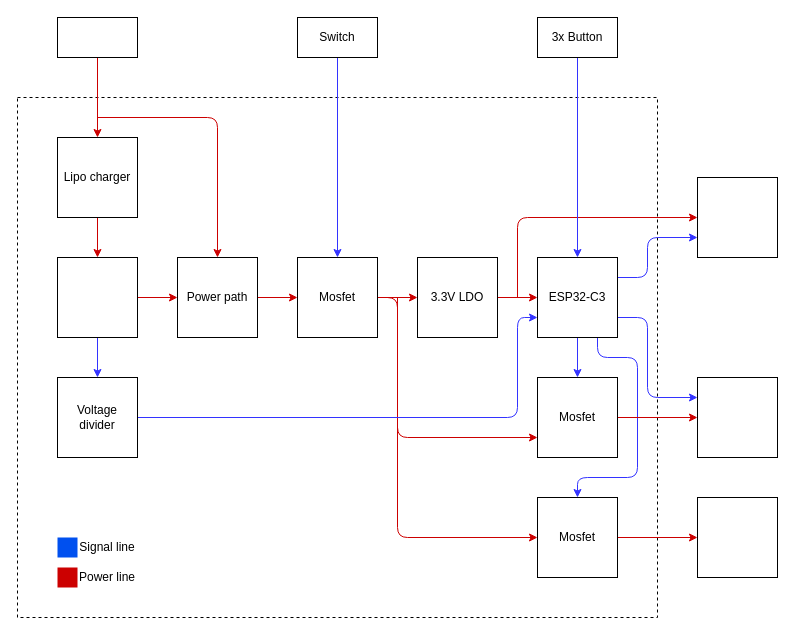
The diagram is 795 pixels wide and 635 high, and some of its shapes have lost their labels. The shapes that lost their labels are listed below. From the top down, each one's centre as x and y in pixels, then its label:
[97,37]: USB type C
[737,217]: OLED
[97,297]: Lipo Battery
[737,417]: 64 LED
[737,537]: Fan
